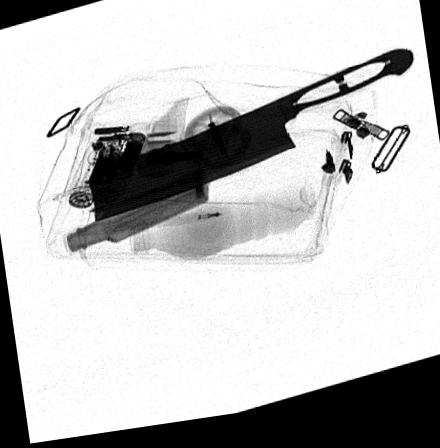Knife: (84, 59, 414, 225)
